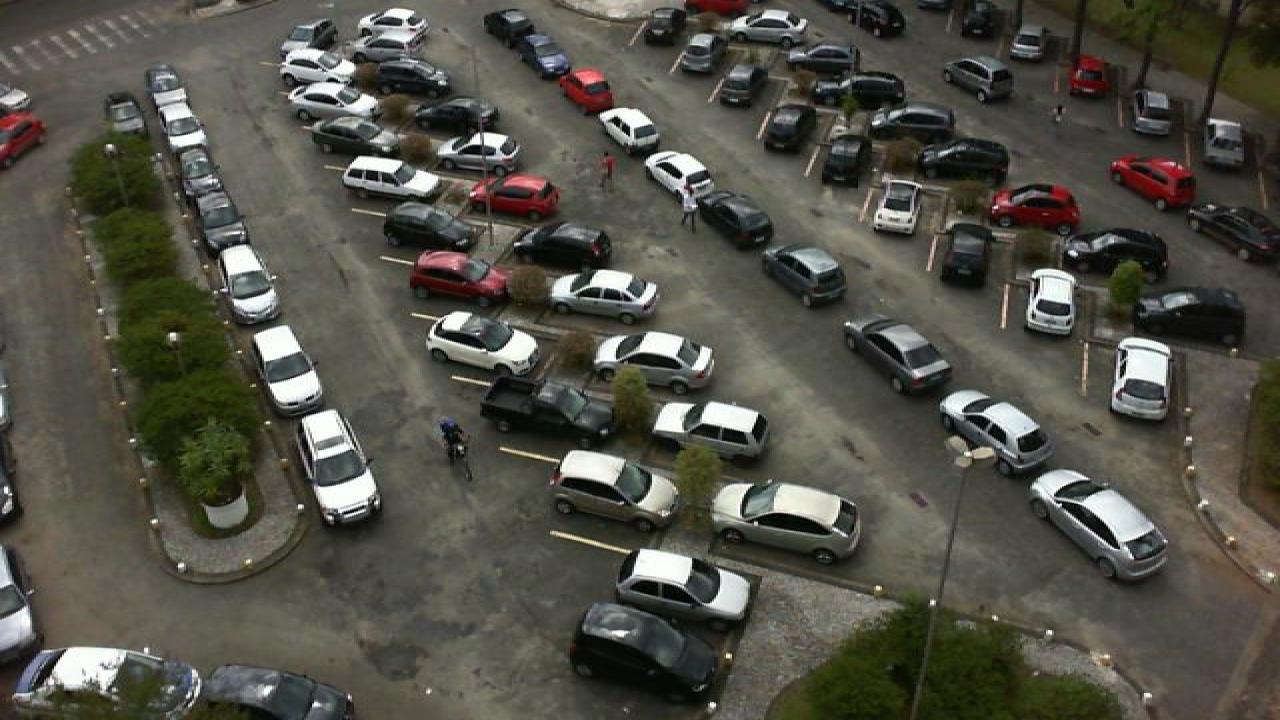Car: (1028, 469, 1172, 582), (570, 602, 718, 704), (12, 646, 208, 720), (708, 478, 862, 565), (548, 450, 682, 533), (478, 366, 614, 446), (936, 389, 1056, 477), (614, 547, 752, 623), (298, 408, 386, 526), (840, 316, 956, 396), (200, 664, 358, 720), (590, 330, 716, 393), (422, 310, 536, 378), (1136, 284, 1248, 346), (250, 322, 324, 415), (652, 400, 768, 458), (1182, 202, 1280, 266), (548, 268, 660, 323), (1062, 226, 1168, 282), (1110, 335, 1176, 422), (762, 243, 848, 308), (406, 248, 508, 302), (508, 221, 612, 271), (216, 242, 280, 323), (692, 189, 776, 250), (1110, 154, 1198, 210), (384, 200, 478, 252), (988, 182, 1082, 234), (338, 156, 442, 202), (432, 130, 524, 176), (642, 148, 718, 202), (470, 173, 560, 218), (402, 96, 498, 138), (358, 55, 450, 98), (306, 115, 402, 156), (1024, 267, 1080, 335), (924, 138, 1010, 182), (192, 184, 250, 248), (940, 56, 1014, 102), (288, 79, 374, 118), (598, 104, 662, 156), (870, 104, 956, 142), (940, 222, 990, 286), (176, 138, 230, 196), (732, 8, 810, 46), (870, 179, 922, 235), (556, 66, 616, 112), (1200, 114, 1250, 168), (278, 48, 352, 84), (776, 71, 854, 103), (352, 30, 424, 64), (520, 31, 572, 78), (844, 0, 908, 37), (276, 18, 338, 55), (792, 42, 858, 76), (158, 102, 208, 146), (764, 102, 808, 152), (358, 8, 428, 38), (482, 8, 534, 48), (1130, 88, 1174, 135), (828, 136, 866, 187), (674, 30, 720, 72), (146, 64, 188, 108), (820, 93, 862, 136), (718, 64, 758, 108), (104, 93, 144, 135), (1068, 55, 1108, 97), (644, 7, 688, 45), (960, 0, 998, 39), (1008, 26, 1046, 62)
